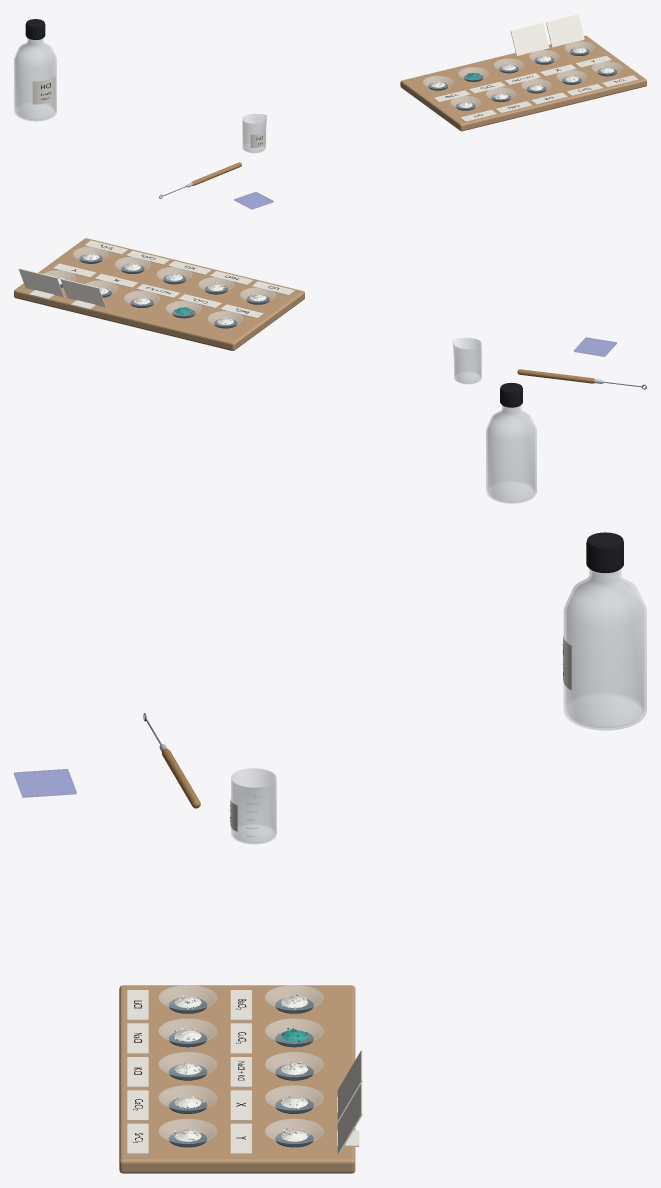
File: saggi-alla-fiamma.glb
The picture shows the model from 3 angles, top to bottom: view 1: azimuth 30°, elevation 25°; view 2: azimuth 150°, elevation 25°; view 3: azimuth 270°, elevation 25°; orthographic projection. The views are drawn at different scales.
Parts seen in each view (by area): view 1: SampleTrayWood, HClBottleGlass, SampleTrayTags, SampleTrayPads, AnswerXFace, AnswerYFace, AcidBeakerGlass, HClBottleLabel, CobaltGlassPlate, HClBottleCap; view 2: SampleTrayWood, HClBottleGlass, SampleTrayTags, AcidBeakerGlass, SampleTrayPads, AnswerXBoard, AnswerYBoard, CobaltGlassPlate, HClBottleCap, WireLoopHandle; view 3: SampleTrayWood, HClBottleGlass, SampleTrayTags, AcidBeakerGlass, SampleTrayPads, CobaltGlassPlate, HClBottleCap, SampleCaGlass, SampleXGlass, SampleCuGlass, SampleKGlass, SampleMixGlass (+5 smaller).
Boxes of the visible parts, <box> form: SampleTrayWood: <box>400,35,646,131</box>; HClBottleGlass: <box>14,38,56,121</box>; SampleTrayTags: <box>433,55,638,121</box>; SampleTrayPads: <box>428,48,616,110</box>; AnswerXFace: <box>511,23,548,55</box>; AnswerYFace: <box>547,15,583,46</box>; AcidBeakerGlass: <box>242,114,266,152</box>; HClBottleLabel: <box>32,76,55,104</box>; CobaltGlassPlate: <box>234,192,273,209</box>; HClBottleCap: <box>25,19,45,39</box>; SampleTrayWood: <box>14,238,304,350</box>; HClBottleGlass: <box>486,405,536,503</box>; SampleTrayTags: <box>53,240,295,318</box>; AcidBeakerGlass: <box>452,338,481,383</box>; SampleTrayPads: <box>60,254,269,328</box>; AnswerXBoard: <box>60,278,105,307</box>; AnswerYBoard: <box>18,268,64,297</box>; CobaltGlassPlate: <box>574,337,616,356</box>; HClBottleCap: <box>500,383,522,407</box>; WireLoopHandle: <box>517,369,594,383</box>; SampleTrayWood: <box>119,985,355,1173</box>; HClBottleGlass: <box>564,569,646,730</box>; SampleTrayTags: <box>127,990,251,1154</box>; AcidBeakerGlass: <box>231,768,276,844</box>; SampleTrayPads: <box>169,998,313,1147</box>; CobaltGlassPlate: <box>14,769,76,797</box>; HClBottleCap: <box>586,532,623,573</box>; SampleCaGlass: <box>158,1085,217,1110</box>; SampleXGlass: <box>265,1085,323,1110</box>; SampleCuGlass: <box>265,1018,323,1043</box>; SampleKGlass: <box>158,1052,217,1076</box>; SampleMixGlass: <box>265,1052,323,1076</box>.
Size of the model in its own units: 1.03 by 0.176 by 0.5765.
